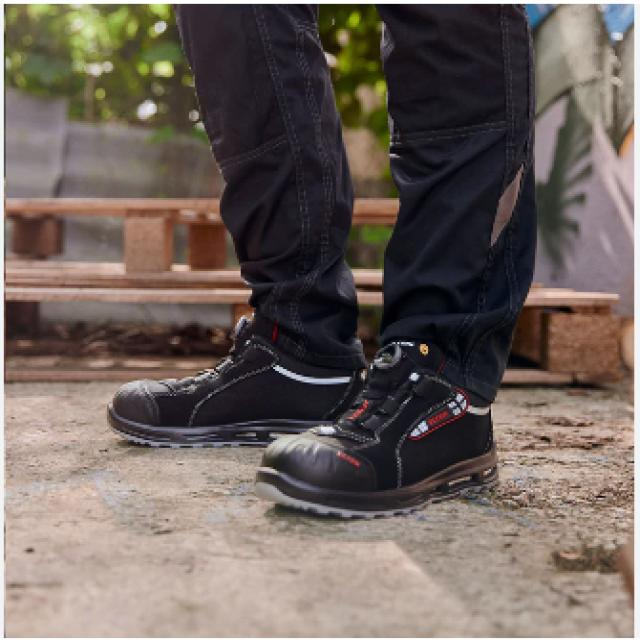shoes: (99, 313, 509, 526)
